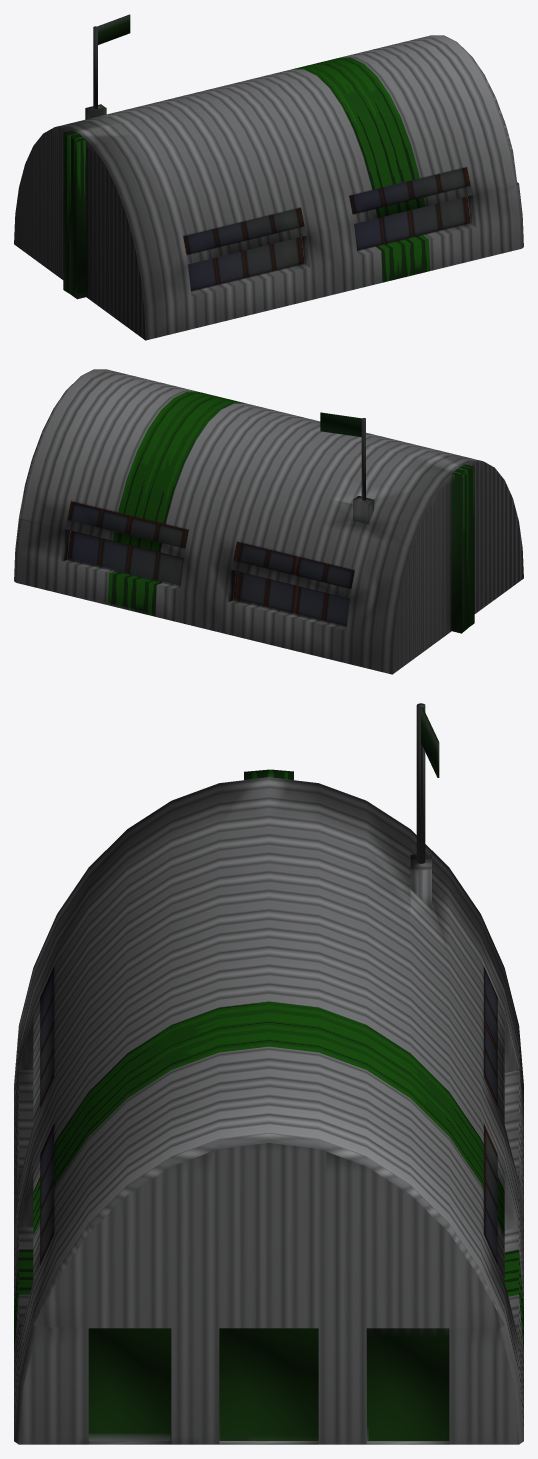
File: cabin.fbx
3 renders of one model, top to bottom at view 1: azimuth 30°, elevation 25°; view 2: azimuth 150°, elevation 25°; view 3: azimuth 270°, elevation 25°, orthographic. The views are drawn at different scales.
Visible parts, largest first — view 1: final; view 2: final; view 3: final.
Part boxes in pixels (x1,y1,x2,y2): final: [14, 14, 523, 340]; final: [14, 369, 523, 674]; final: [14, 703, 523, 1444].
Bounding box in the file's own units: 1.2 × 1.12 × 2.06.
1 material, 1 textured.
